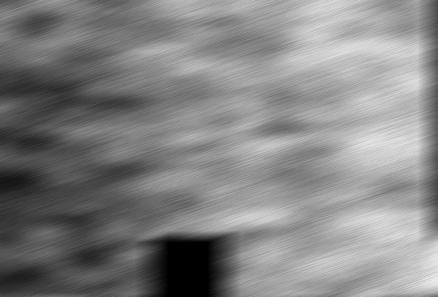Airbag: (0, 0, 438, 297), (430, 1, 438, 297)
